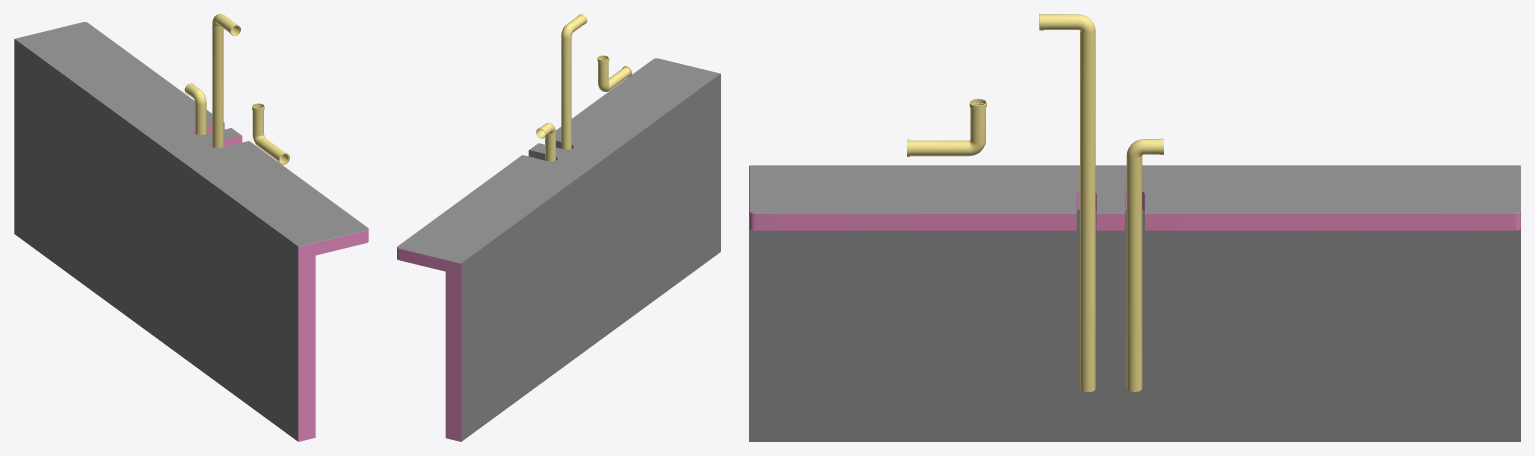
The model's file is Wall.FBX.
3 renders of one model, left to right at view 1: azimuth 30°, elevation 25°; view 2: azimuth 150°, elevation 25°; view 3: azimuth 270°, elevation 25°, orthographic. The views are drawn at different scales.
Parts seen in each view (by area): view 1: Wall, Tube_L1, Tube_L2, Tube_R; view 2: Wall, Tube_L1, Tube_L2, Tube_R; view 3: Wall, Tube_L1, Tube_R, Tube_L2.
Boxes of the visible parts, left/top/right/bottom form: Wall: left=14, top=22, right=368, bottom=441; Tube_L1: left=212, top=14, right=240, bottom=147; Tube_L2: left=252, top=103, right=289, bottom=164; Tube_R: left=184, top=83, right=206, bottom=134; Wall: left=397, top=58, right=720, bottom=441; Tube_L1: left=561, top=14, right=587, bottom=149; Tube_L2: left=597, top=55, right=632, bottom=91; Tube_R: left=536, top=123, right=555, bottom=161; Wall: left=749, top=165, right=1520, bottom=441; Tube_L1: left=1039, top=14, right=1095, bottom=392; Tube_R: left=1126, top=138, right=1163, bottom=391; Tube_L2: left=907, top=98, right=986, bottom=156.
Bounding box in the file's own units: 199 × 1363 × 868.
